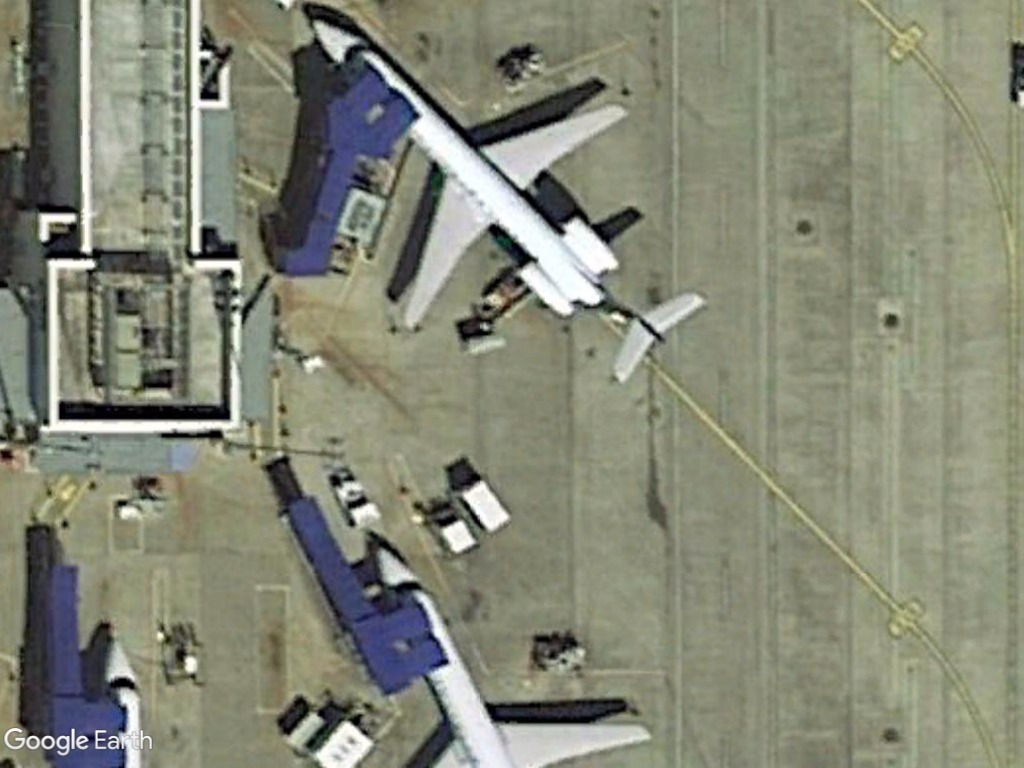chartered: (303, 11, 707, 387)
